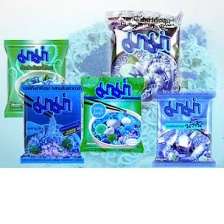snack: (99, 4, 188, 105), (14, 78, 88, 167), (0, 33, 72, 122), (74, 71, 148, 156), (146, 86, 221, 168)
